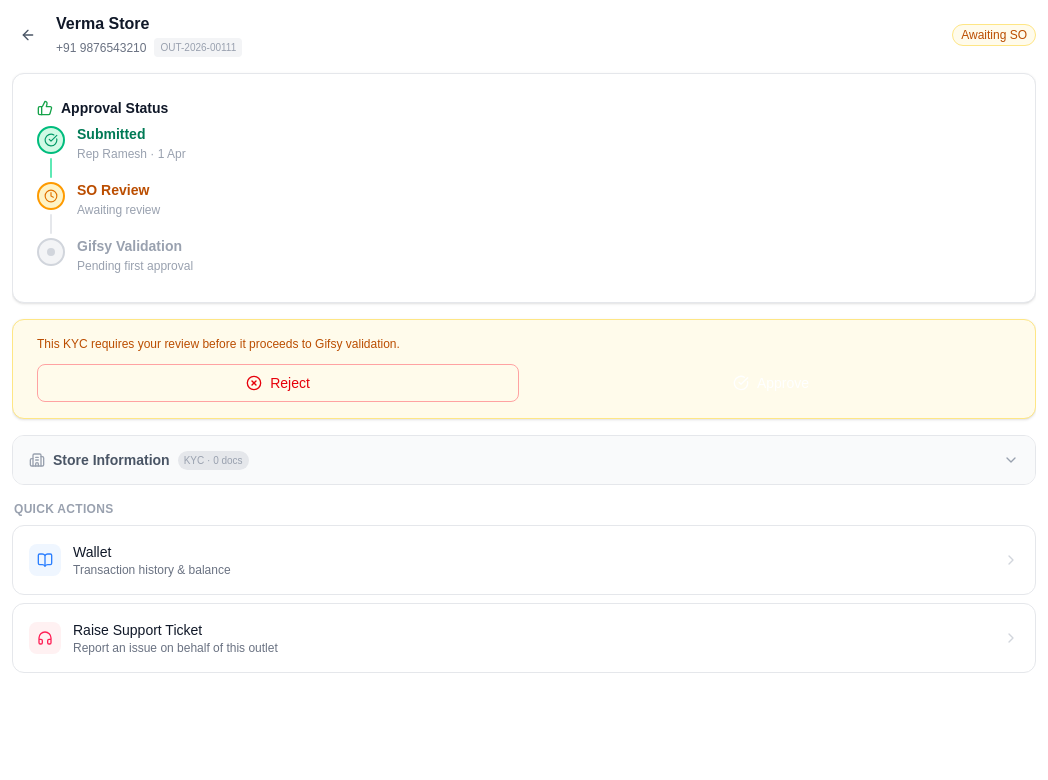
Test: SKGEO — Sales KYC detail location (lat/long) › SKGEO1: renders the store-board geo as a Location row (6dp)
Expected: the heading "Verma Store" is shown, [56,15,149,32]
Click the text "Store Information".
click(111, 460)  # box [53,450,170,470]
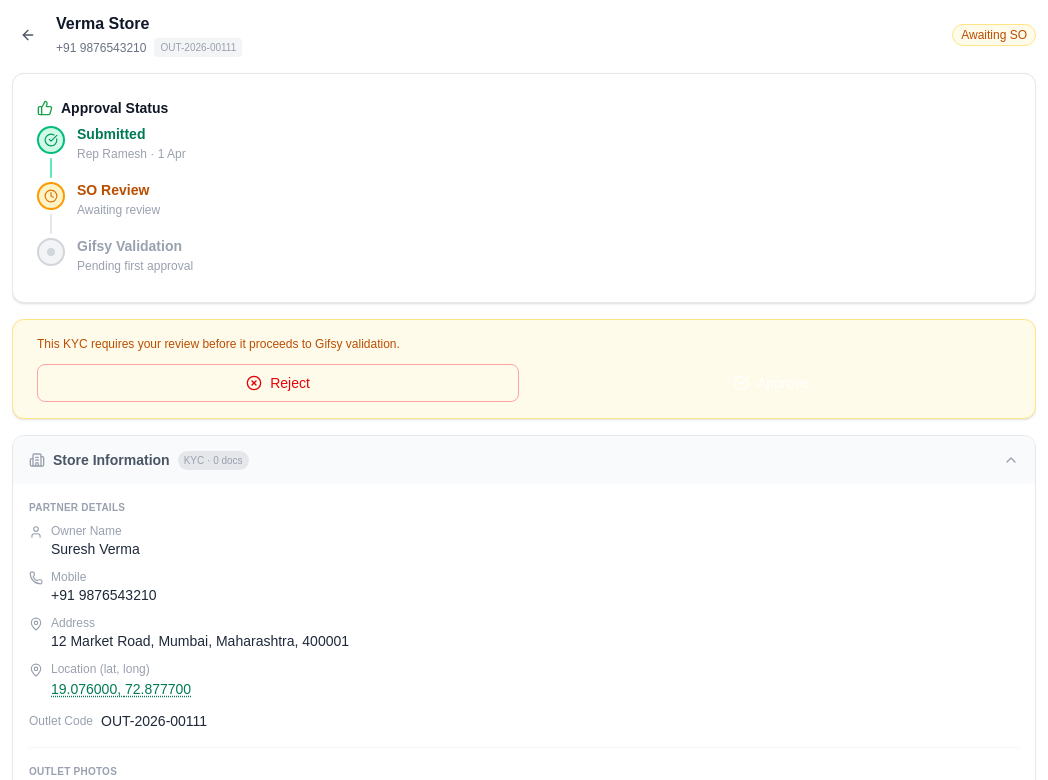
Result: the element with test id "kyc-store-location" shows "Location (lat, long)" at [51,662,150,676]
Result: the element with test id "kyc-store-location" shows "19.076000, 72.877700" at [29,662,191,697]
